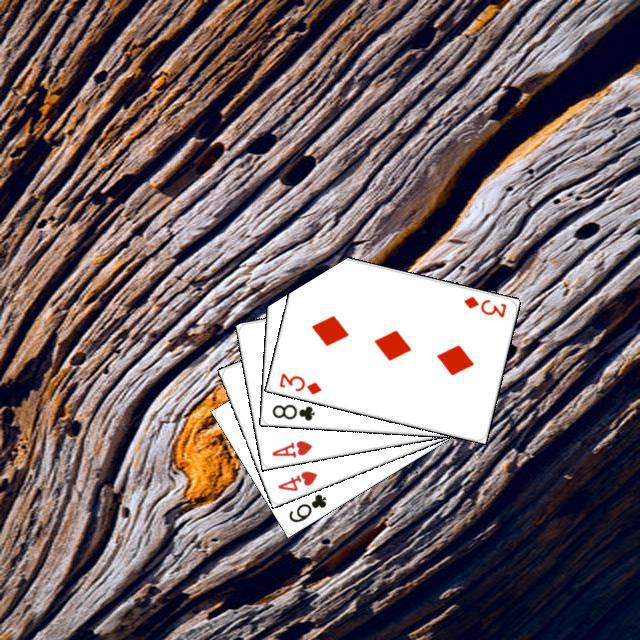3d: (274, 368, 323, 396), (459, 291, 508, 319)
4h: (273, 466, 319, 493)
6c: (284, 489, 328, 524)
8c: (267, 399, 316, 422)
Ah: (267, 435, 314, 459)
